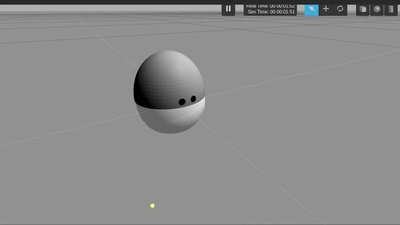mira_robot: (134, 50, 206, 134)
